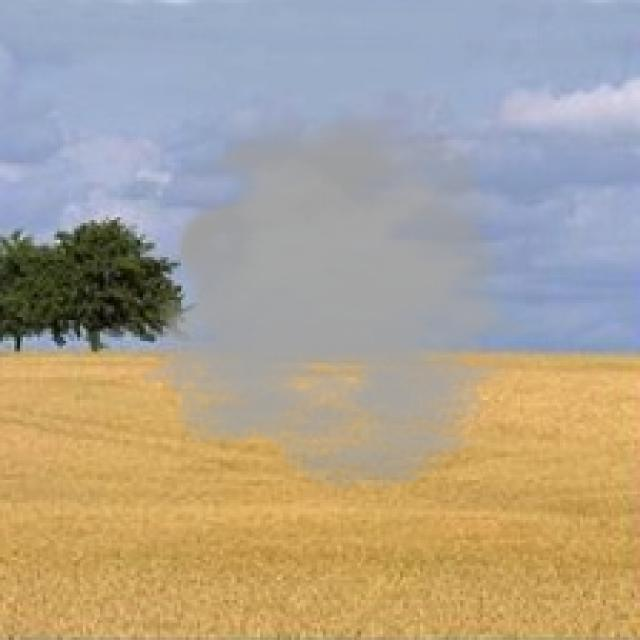smoke: (140, 111, 551, 492)
